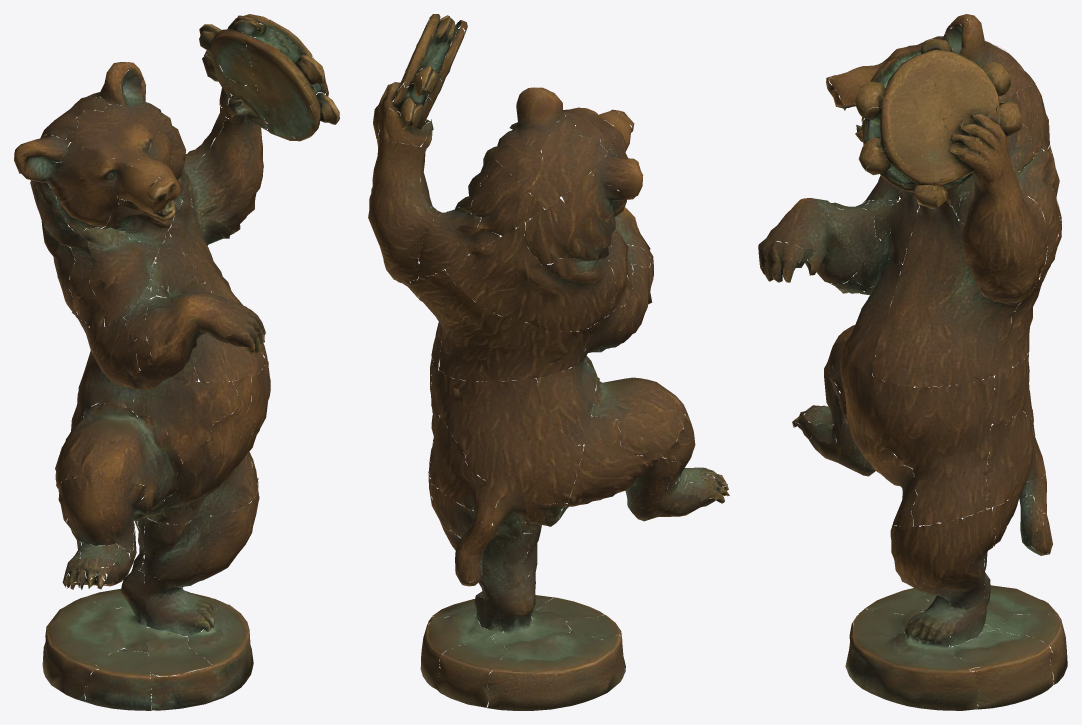
Rendered from h_clock_bear.glb.
3 renders of one model, left to right at view 1: azimuth 30°, elevation 25°; view 2: azimuth 150°, elevation 25°; view 3: azimuth 270°, elevation 25°, orthographic. The views are drawn at different scales.
Parts seen in each view (by area): view 1: tripo_node_2ba5acbd-2966-4c39-9895-f21c71d1fd41; view 2: tripo_node_2ba5acbd-2966-4c39-9895-f21c71d1fd41; view 3: tripo_node_2ba5acbd-2966-4c39-9895-f21c71d1fd41.
Boxes of the visible parts, x1,y1,x2,y2 form: tripo_node_2ba5acbd-2966-4c39-9895-f21c71d1fd41: (14,14,339,710); tripo_node_2ba5acbd-2966-4c39-9895-f21c71d1fd41: (368,14,729,710); tripo_node_2ba5acbd-2966-4c39-9895-f21c71d1fd41: (758,14,1067,710).
Bounding box in the file's own units: 0.4906 × 0.9995 × 0.4186.
1 material, 1 textured.
